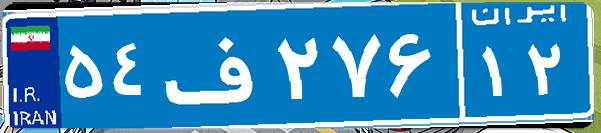1: (475, 38, 525, 113)
2: (273, 28, 330, 110), (525, 38, 570, 115)
4: (110, 28, 158, 105)
5: (57, 26, 110, 107)
6: (385, 28, 445, 110)
7: (330, 28, 385, 110)
ف: (158, 15, 273, 115)
